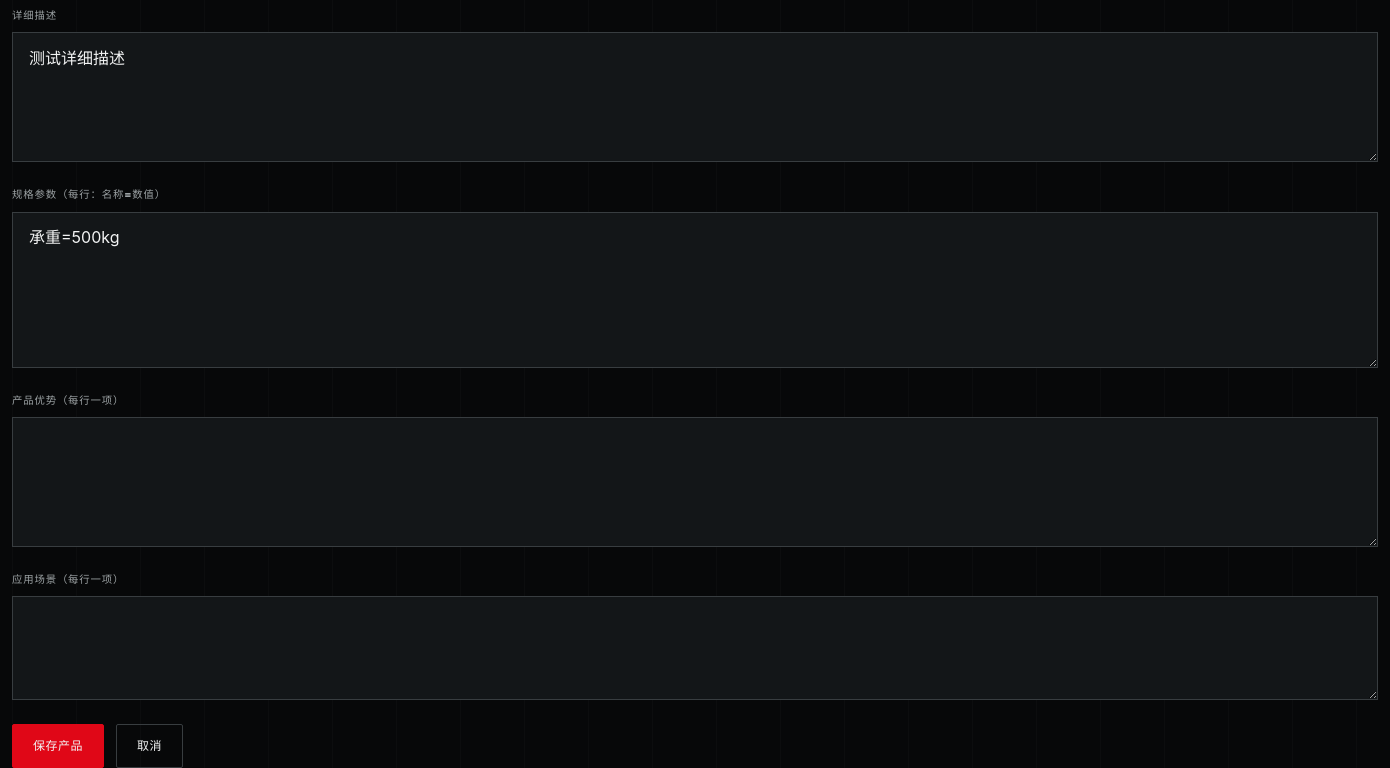
Test: ProductEditorForm › rejects direct browser image data instead of trying to save it
(page scrolled)
Click the button "保存产品" at (58, 746), box x1=12 y1=724 x2=104 y2=767
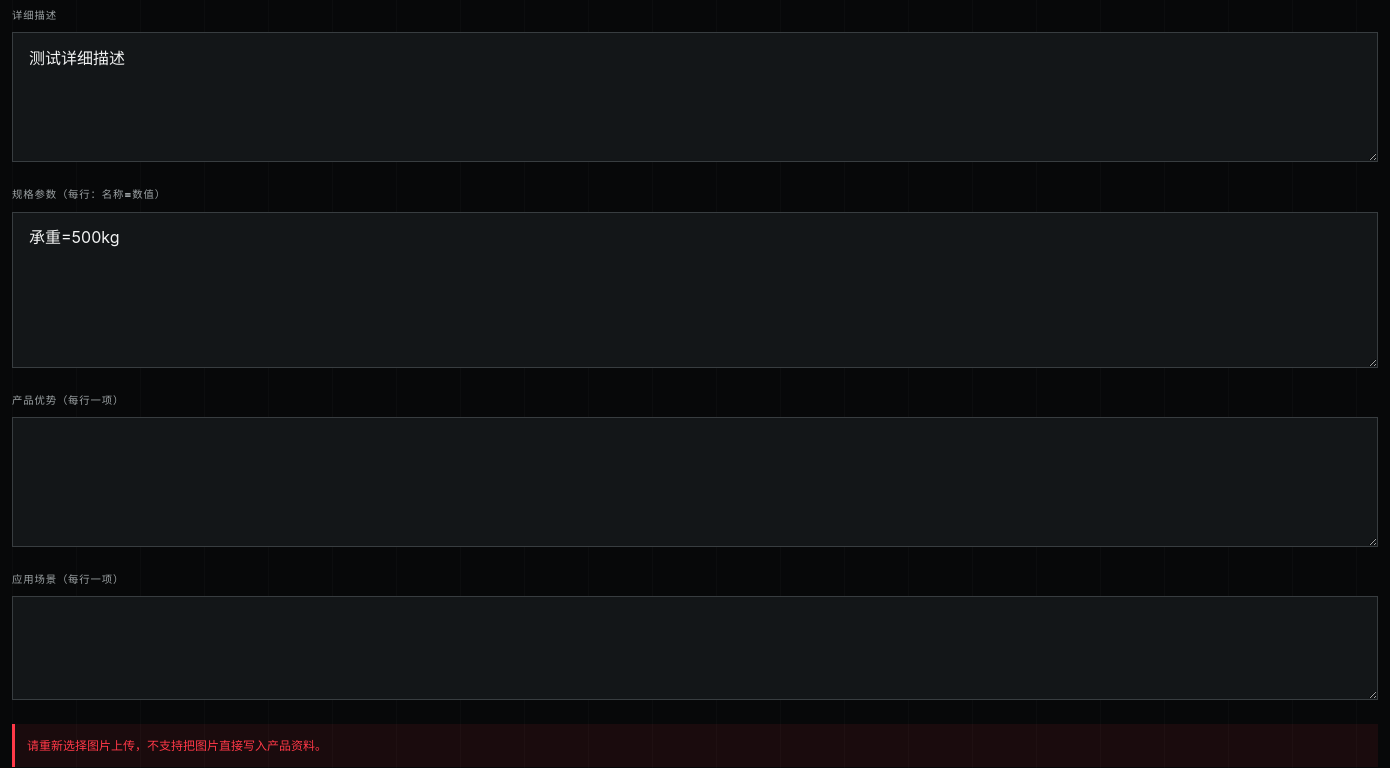
Result: the message shows "请重新选择图片上传" at x1=27 y1=738 x2=327 y2=753
